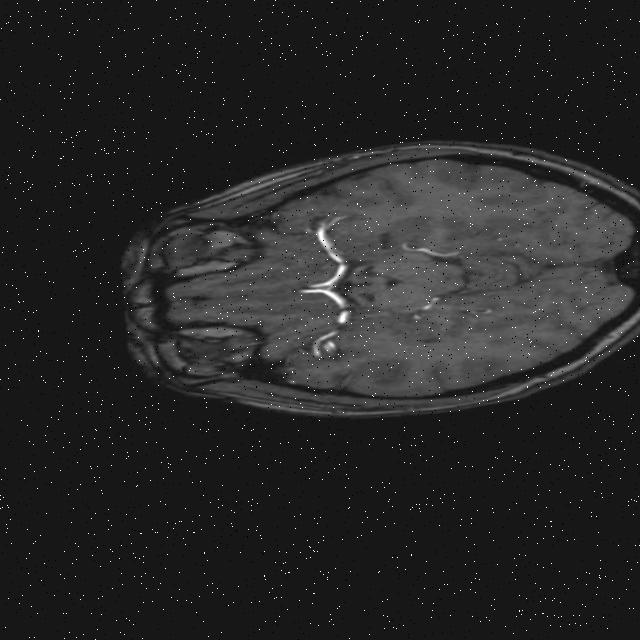NoTumor: (109, 127, 640, 431)
